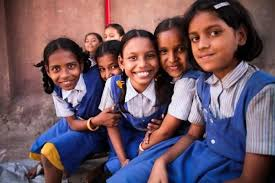student: (184, 3, 246, 66), (154, 21, 192, 76), (41, 41, 85, 88), (118, 33, 160, 82), (88, 43, 122, 80), (102, 23, 124, 45), (81, 32, 98, 53)
